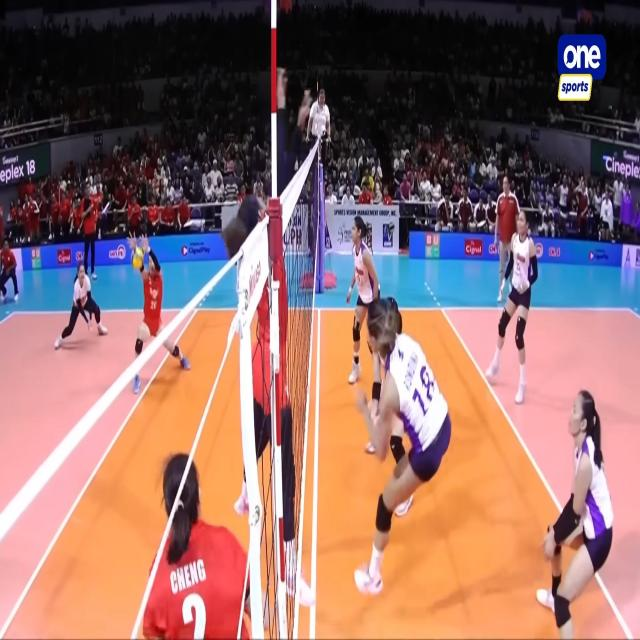Volleyball-Ball: (131, 247, 144, 270)
